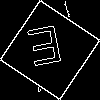E: (25, 25, 66, 76)
